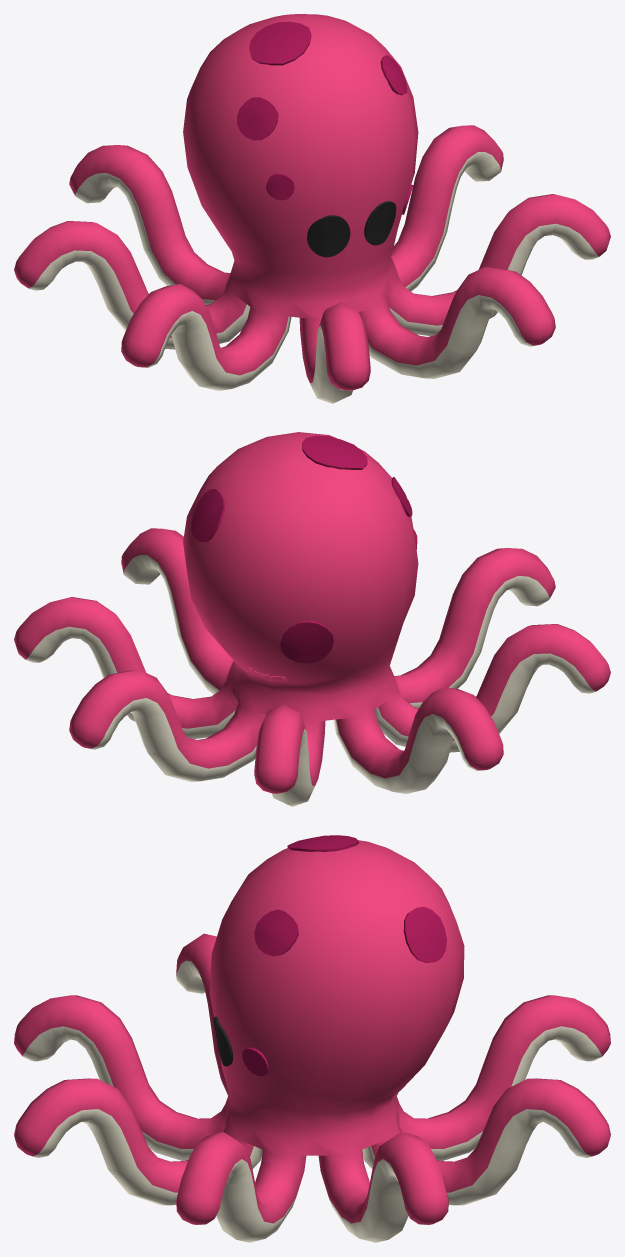
Rendered from octopus.fbx.
3 views of the same model, one above another, from view 1: azimuth 30°, elevation 25°; view 2: azimuth 150°, elevation 25°; view 3: azimuth 270°, elevation 25° (orthographic). The views are drawn at different scales.
Parts seen in each view (by area): view 1: Circle.1984, Plane.172, Circle.1985; view 2: Circle.1984, Plane.172; view 3: Circle.1984, Plane.172.
Boxes of the visible parts, <box> form: Circle.1984: <box>14,14,610,403</box>; Plane.172: <box>237,21,413,214</box>; Circle.1985: <box>307,201,396,257</box>; Circle.1984: <box>14,432,610,806</box>; Plane.172: <box>191,435,417,663</box>; Circle.1984: <box>14,840,610,1242</box>; Plane.172: <box>242,835,446,1076</box>.
Size of the model in its own units: 223 by 138 by 223.
Materials: 1 (1 with a texture image).
